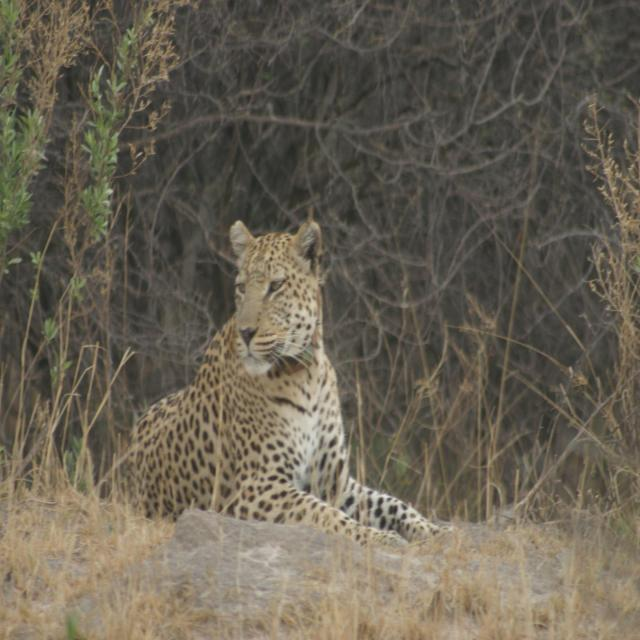Leopard: (121, 219, 456, 540)
